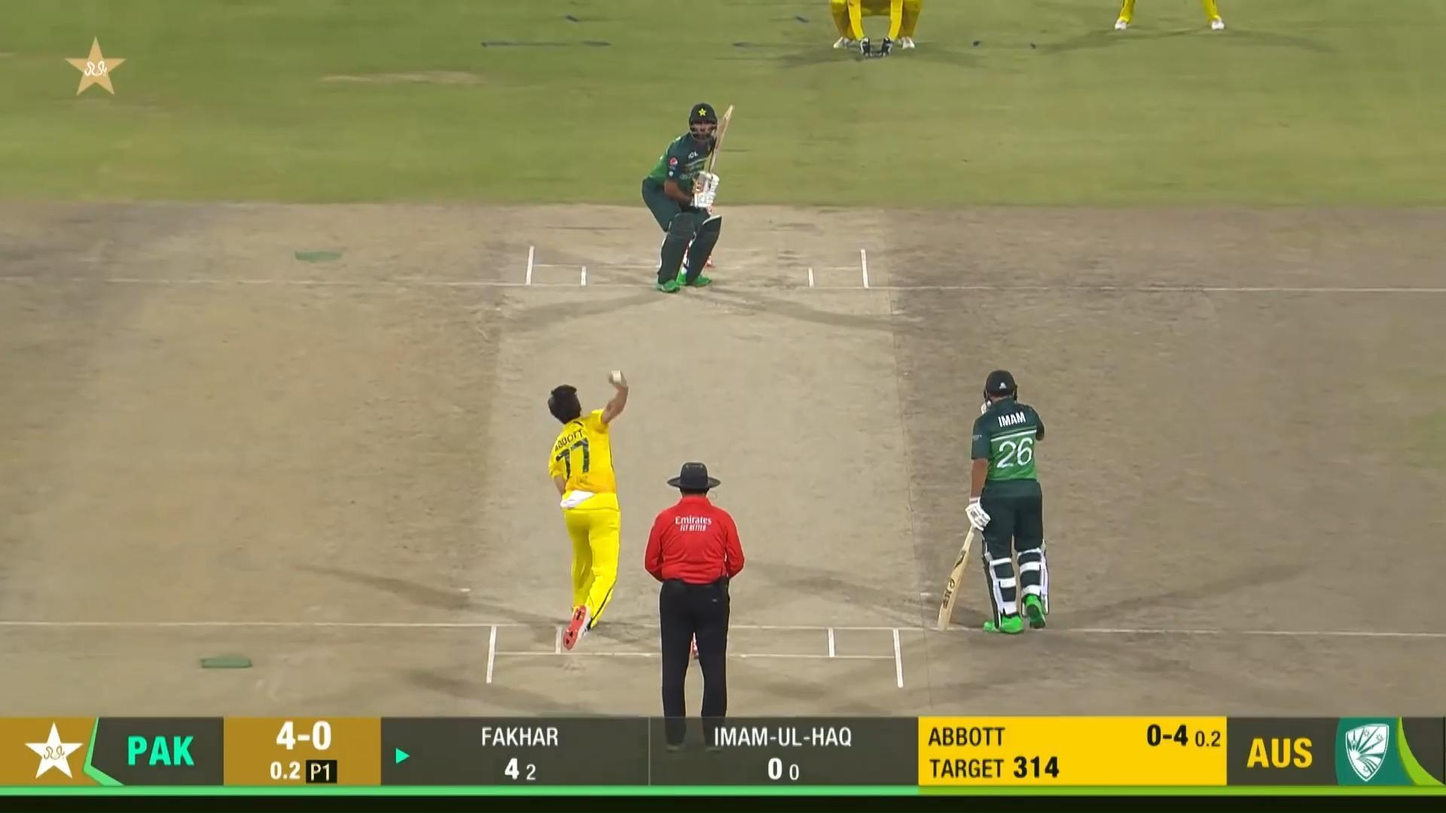BM 1: (641, 101, 735, 295)
BO: (545, 366, 631, 650)
